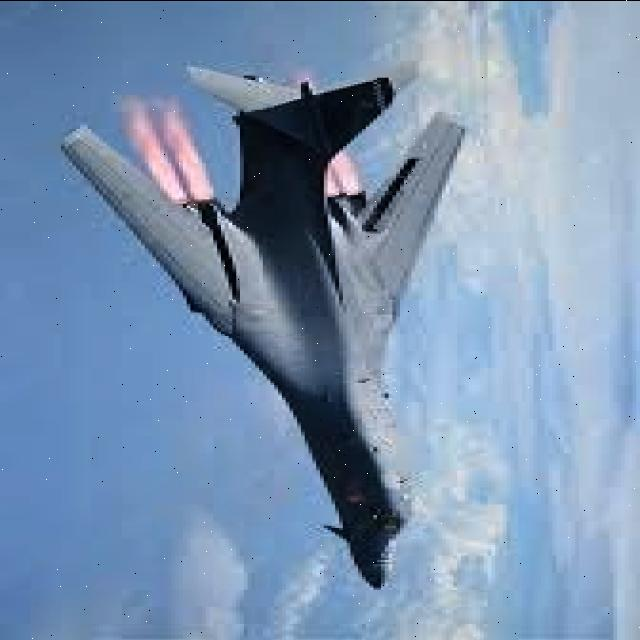B1: (38, 61, 586, 596)
